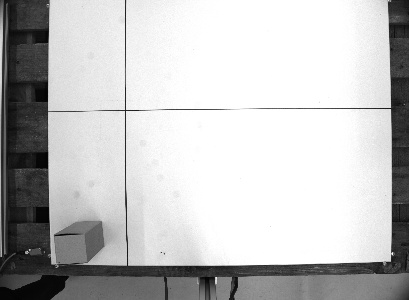b2: (52, 218, 108, 266)
